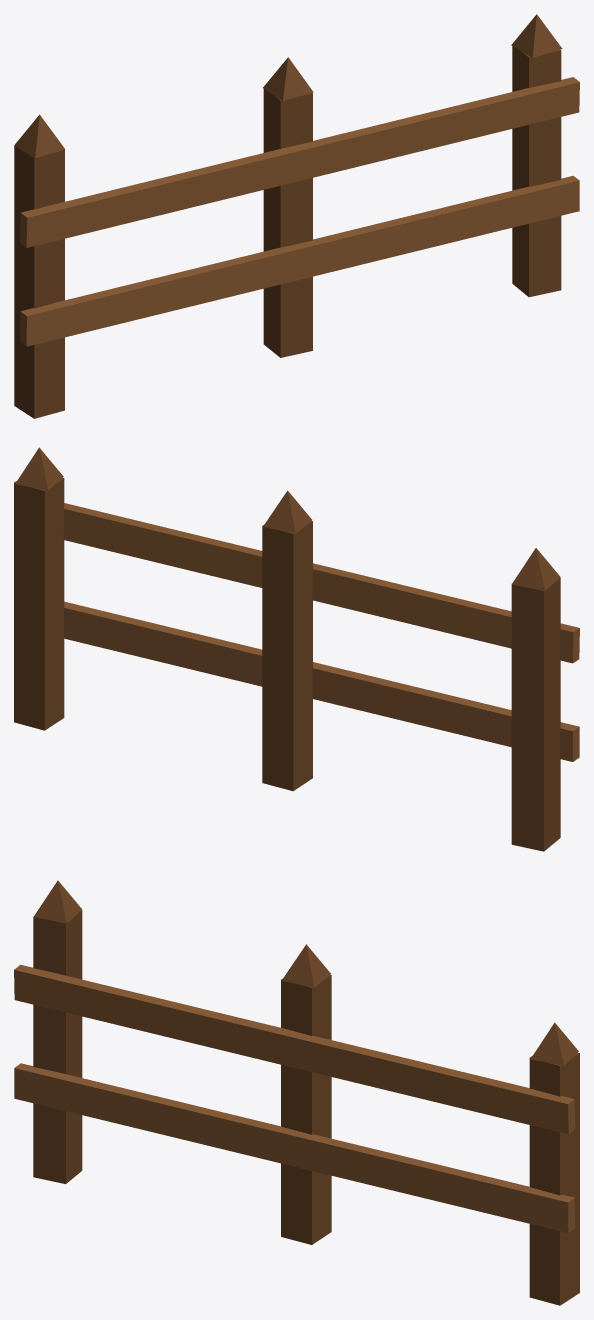
The model's file is fence.glb.
3 renders of one model, top to bottom at view 1: azimuth 30°, elevation 25°; view 2: azimuth 150°, elevation 25°; view 3: azimuth 330°, elevation 25°, orthographic.
Parts seen in each view (by area): view 1: fence2; view 2: fence2; view 3: fence2.
Part boxes in pixels (x1=…): fence2: x1=14, y1=14, x2=579, y2=418; fence2: x1=14, y1=447, x2=579, y2=851; fence2: x1=14, y1=880, x2=579, y2=1305.
Size of the model in its own units: 2.45 by 1.24 by 0.1981.
